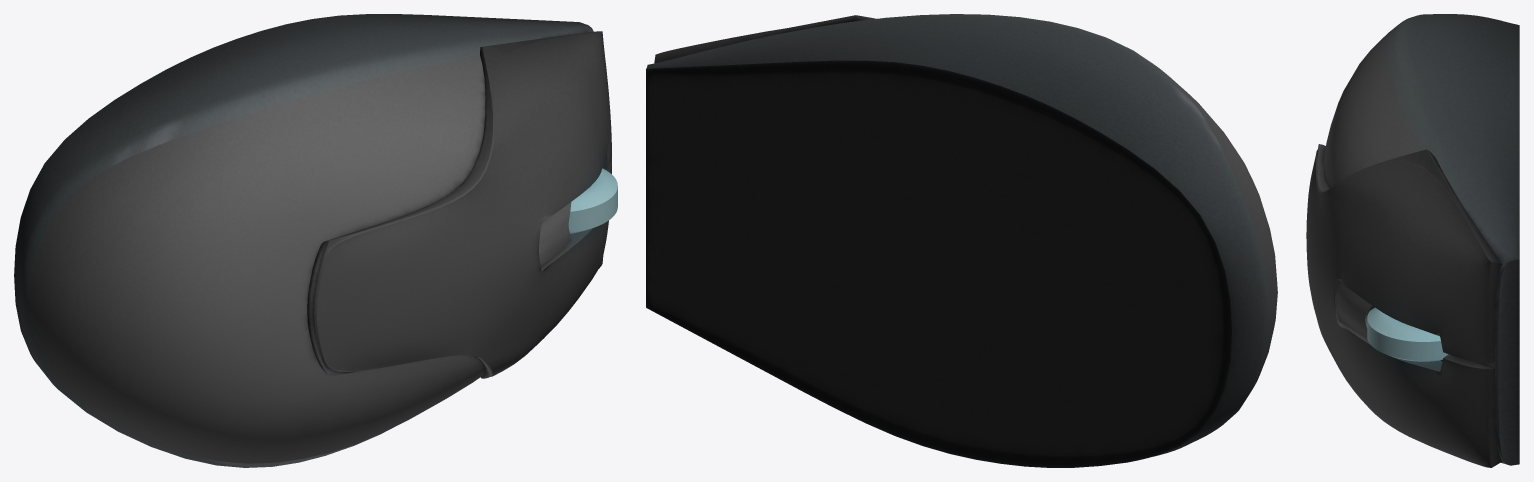
The model's file is 01_mouse.glb.
3 views of the same model, side by side, from view 1: azimuth 30°, elevation 25°; view 2: azimuth 150°, elevation 25°; view 3: azimuth 270°, elevation 25° (orthographic). The views are drawn at different scales.
Parts seen in each view (by area): view 1: Node1; view 2: Node1; view 3: Node1.
Part boxes in pixels (bbox=[...]): Node1: bbox=[14, 14, 617, 467]; Node1: bbox=[646, 14, 1277, 467]; Node1: bbox=[1306, 14, 1519, 467].
Bounding box in the file's own units: 12.18 × 7.72 × 4.3.
1 material, 1 textured.
